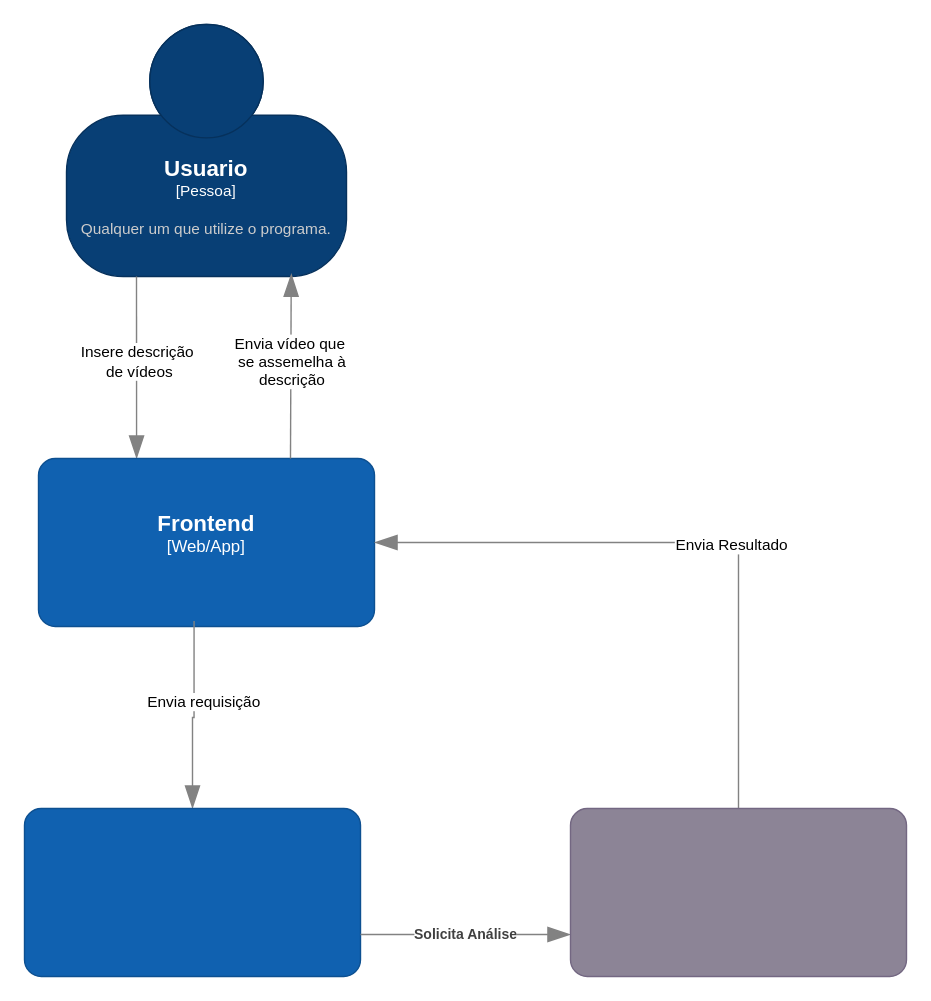
This 931x1001 diagram has some shape labels left out. Here are the shapes that lost their labels. From the top down, the centre of each, then its label:
[191,891]: Backend [Contém acervo de vídeos a serem analisados]
[737,891]: Modelo de IA [CLIP (Contrastive Language–Image) ]
